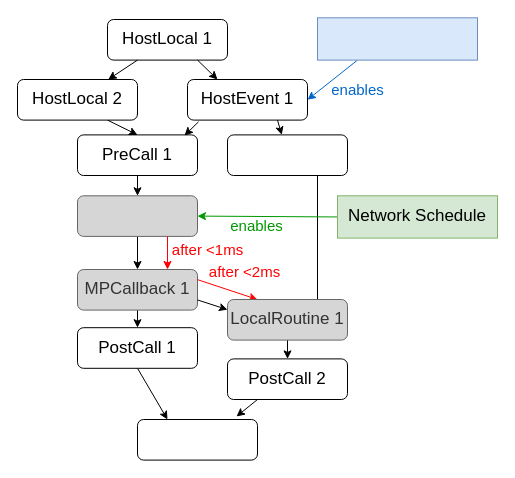
This 515x478 diagram has some shape labels left out. Here are the shapes that lost their labels. From the top down, the centre of each, then its label:
At [397,38]: "Classical Message Buffer".
At [287,155]: "PreCall 2".
At [137,215]: "MultiPair 1".
At [197,439]: "HostLocal 3".
